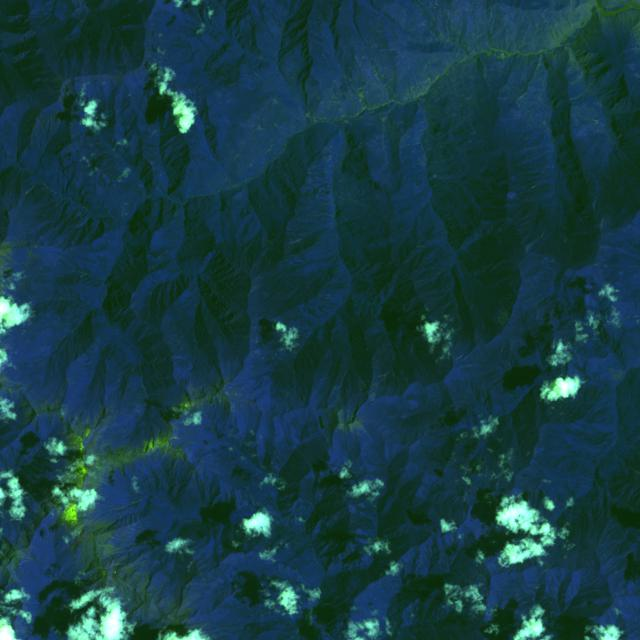landslides: (353, 421, 373, 441), (525, 232, 543, 252), (358, 87, 368, 109), (569, 89, 588, 100)
